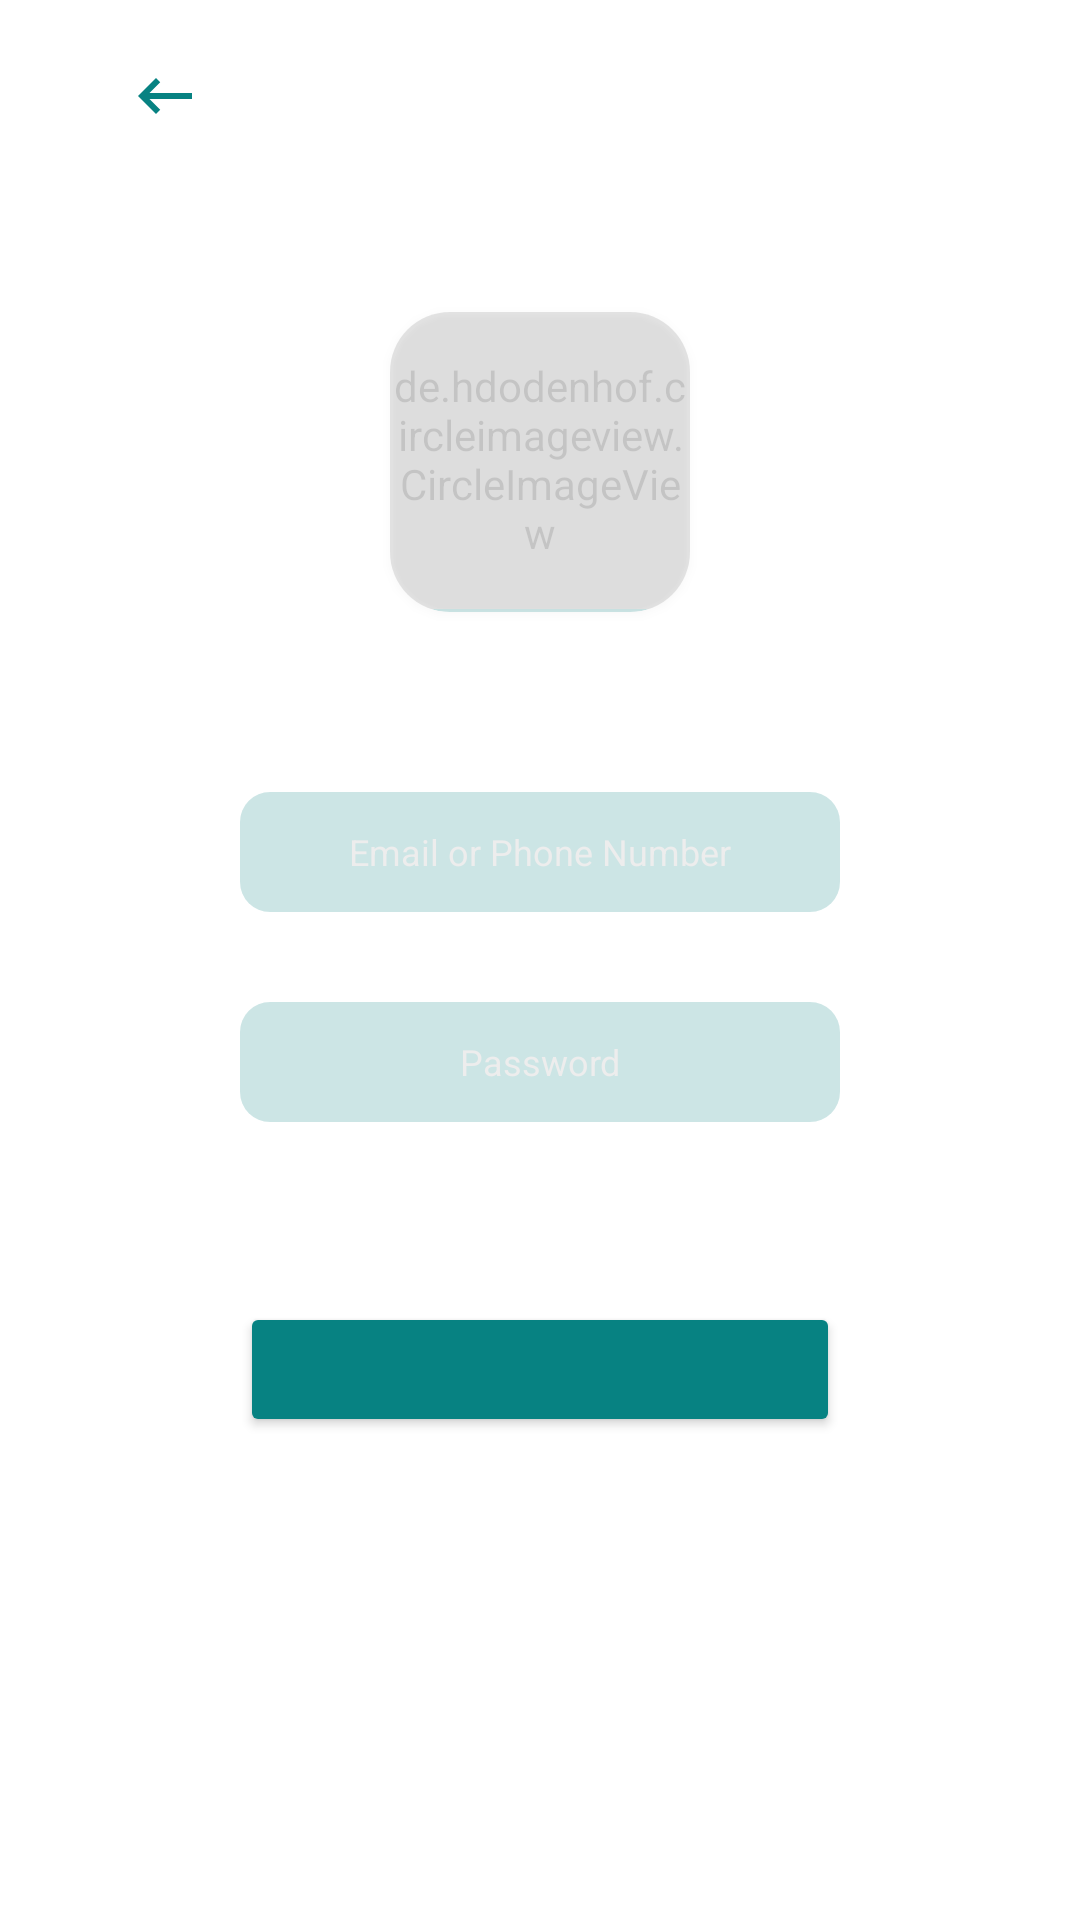

Icon bounding boxes for this 1080 x 1920 phone screenshot, format (x1, y1, x2, y2):
keyboard backspace: (138, 78, 192, 114)
